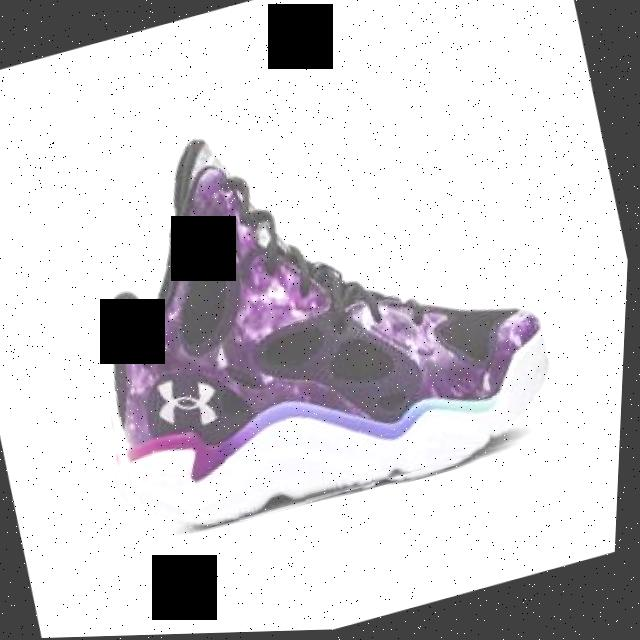shoe: (36, 55, 581, 558)
